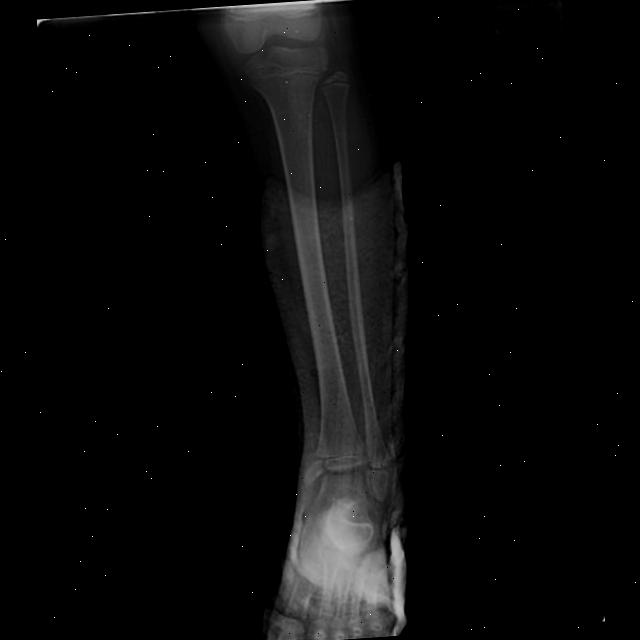Fracture: (299, 446, 333, 491)
